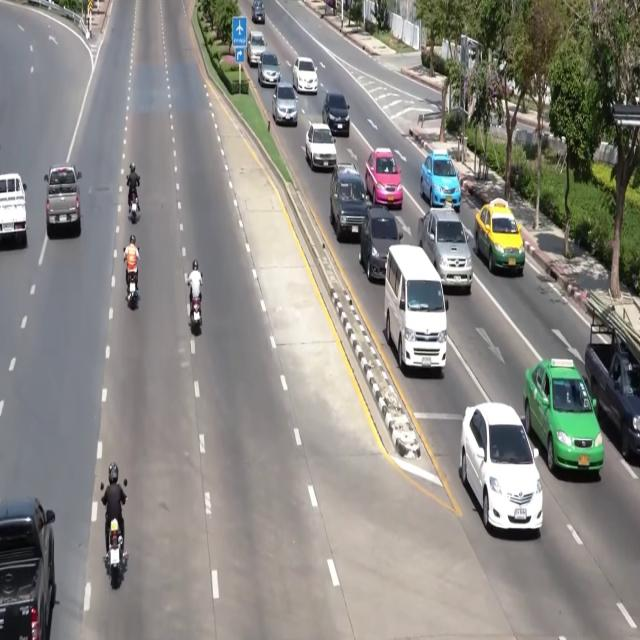car: (460, 403, 542, 531), (524, 360, 604, 473), (419, 208, 472, 294), (475, 199, 525, 275), (359, 206, 402, 281), (330, 163, 367, 241), (421, 151, 461, 212), (365, 148, 402, 208), (305, 123, 336, 170), (322, 92, 349, 136), (272, 82, 297, 126), (292, 57, 318, 94), (258, 51, 280, 86), (247, 31, 266, 66), (252, 0, 265, 23)
scooty: (105, 519, 126, 589)
truck: (585, 293, 639, 460), (0, 498, 55, 639), (44, 165, 81, 238), (0, 174, 27, 247)
